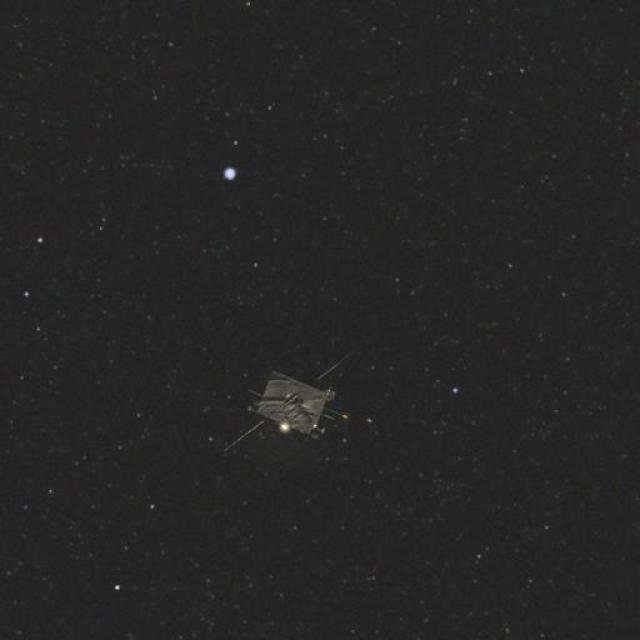smart_1: (204, 333, 371, 474)
